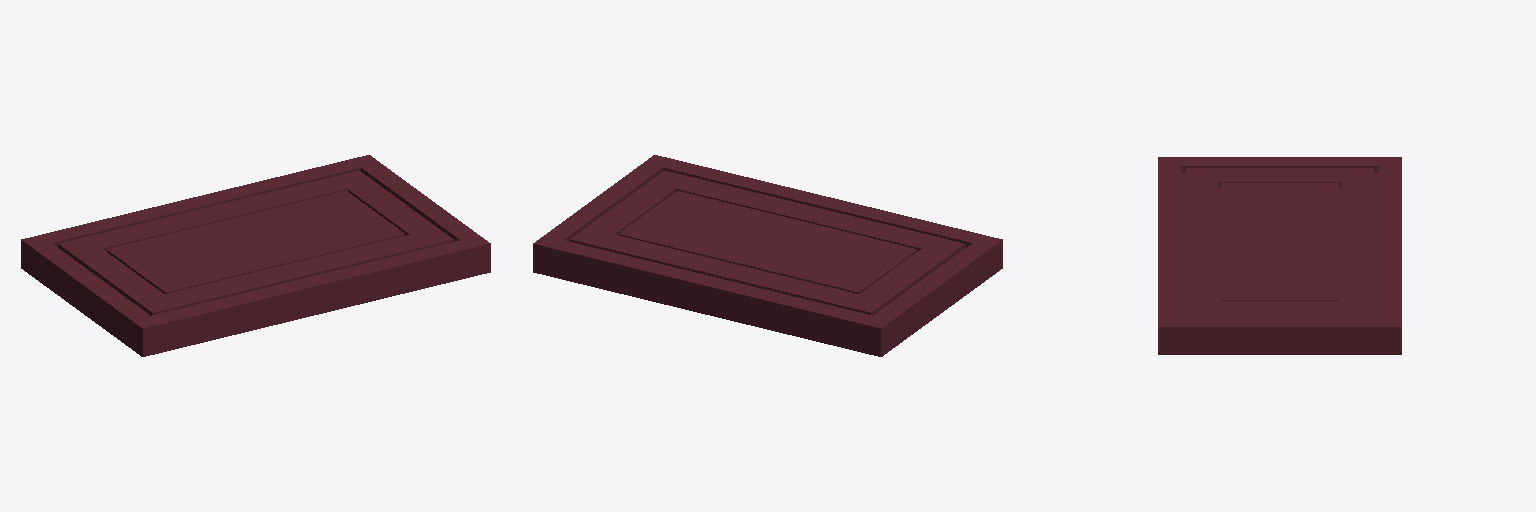
The model's file is ground.obj.
The picture shows the model from 3 angles: view 1: azimuth 30°, elevation 25°; view 2: azimuth 150°, elevation 25°; view 3: azimuth 270°, elevation 25°; orthographic projection.
Visible parts, largest first — view 1: Mesh1 Group1 Difference Model; view 2: Mesh1 Group1 Difference Model; view 3: Mesh1 Group1 Difference Model.
Part boxes in pixels (left/top/right/bottom): Mesh1 Group1 Difference Model: left=21, top=155, right=490, bottom=356; Mesh1 Group1 Difference Model: left=533, top=155, right=1002, bottom=356; Mesh1 Group1 Difference Model: left=1158, top=157, right=1401, bottom=354.
Bounding box in the file's own units: 126600 × 10000 × 76600.